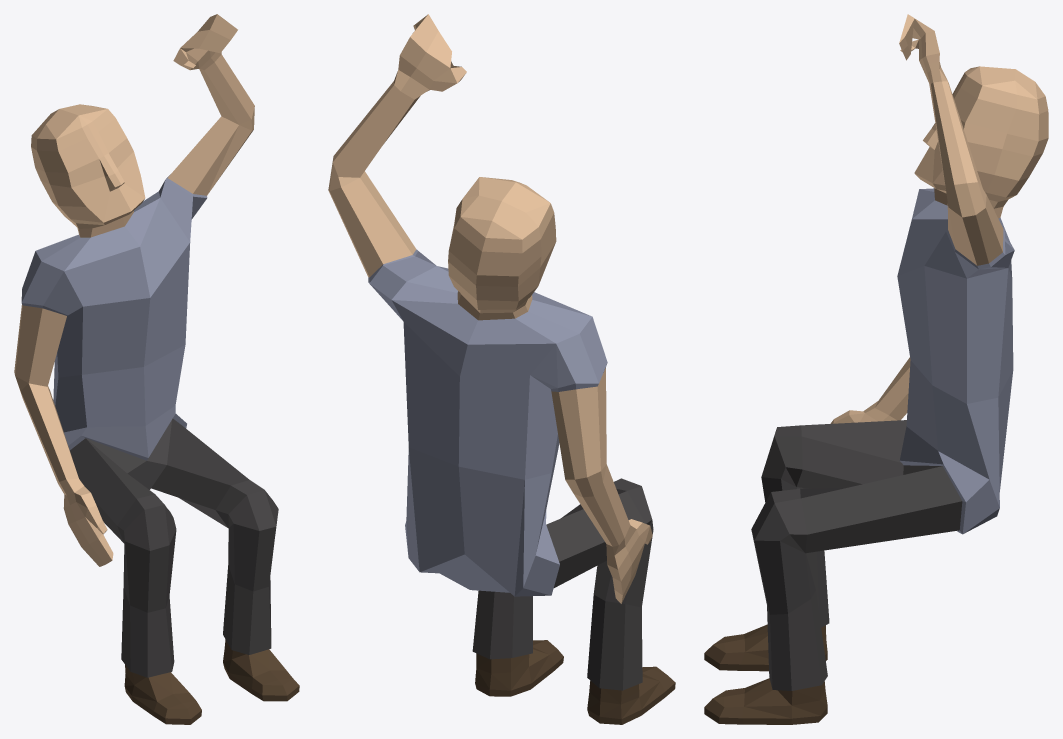
File: Male_Sitting_Cheering.glb
The picture shows the model from 3 angles, left to right: view 1: azimuth 30°, elevation 25°; view 2: azimuth 150°, elevation 25°; view 3: azimuth 270°, elevation 25°; orthographic projection. The views are drawn at different scales.
Visible parts, largest first — view 1: Male_Sitting_Cheering; view 2: Male_Sitting_Cheering; view 3: Male_Sitting_Cheering.
Part boxes in pixels (<box>): Male_Sitting_Cheering: <box>14,14,299,724</box>; Male_Sitting_Cheering: <box>328,14,675,724</box>; Male_Sitting_Cheering: <box>704,14,1048,724</box>.
Size of the model in its own units: 1.45 by 3.61 by 1.59.
